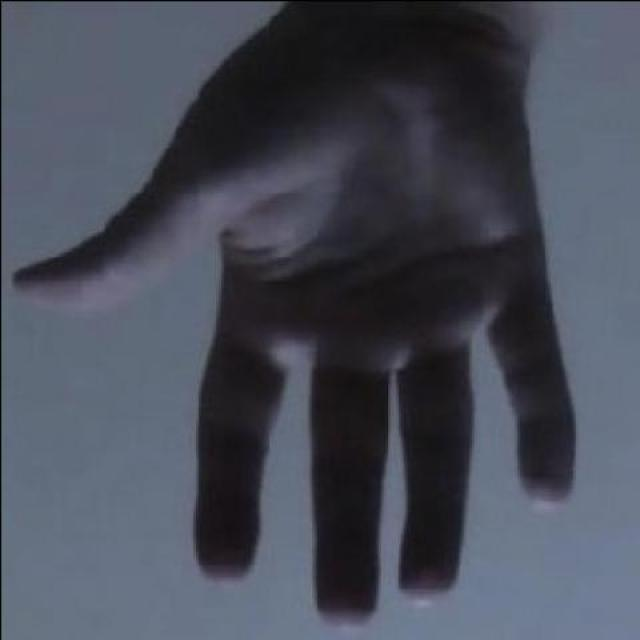Open Hand: (7, 0, 597, 637)
